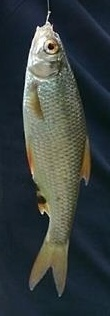Rutilus rutilus: (20, 20, 90, 296)
